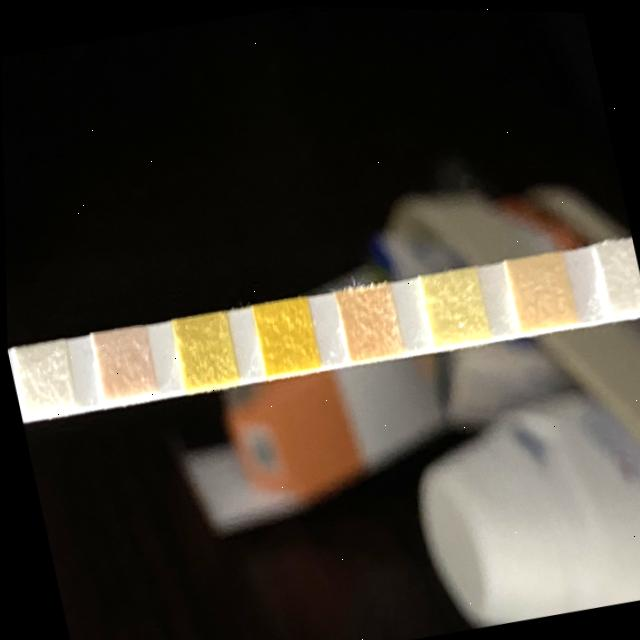Bilirubin: (11, 338, 75, 419)
Blood: (250, 293, 318, 377)
Ketone: (89, 322, 158, 405)
Nitrite: (594, 235, 640, 316)
Protein: (417, 262, 489, 347)
SpGravity: (169, 308, 238, 390)
Urobilinogen: (505, 248, 575, 332)
pH: (334, 279, 403, 363)
